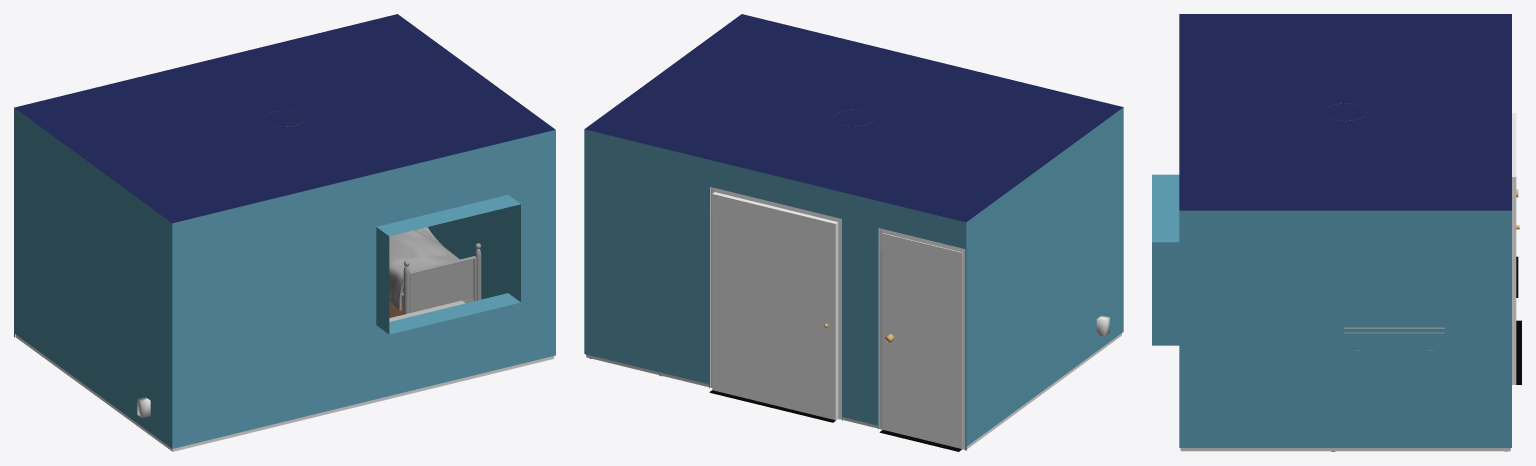
The model's file is KnightBright_Env_Bedroom_Lowpoly (1).fbx.
3 views of the same model, side by side, from view 1: azimuth 30°, elevation 25°; view 2: azimuth 150°, elevation 25°; view 3: azimuth 270°, elevation 25° (orthographic). The views are drawn at different scales.
Parts seen in each view (by area): view 1: KnightBright_Room, KnightBright_Bed; view 2: KnightBright_Room; view 3: KnightBright_Room, KnightBright_Shelf.
Boxes of the visible parts, x1,y1,x2,y2 form: KnightBright_Room: (14, 14, 555, 451); KnightBright_Bed: (389, 227, 481, 314); KnightBright_Room: (584, 14, 1123, 451); KnightBright_Room: (1152, 14, 1521, 451); KnightBright_Shelf: (1344, 327, 1444, 350).
Bounding box in the file's own units: 1436 × 806 × 1111.
